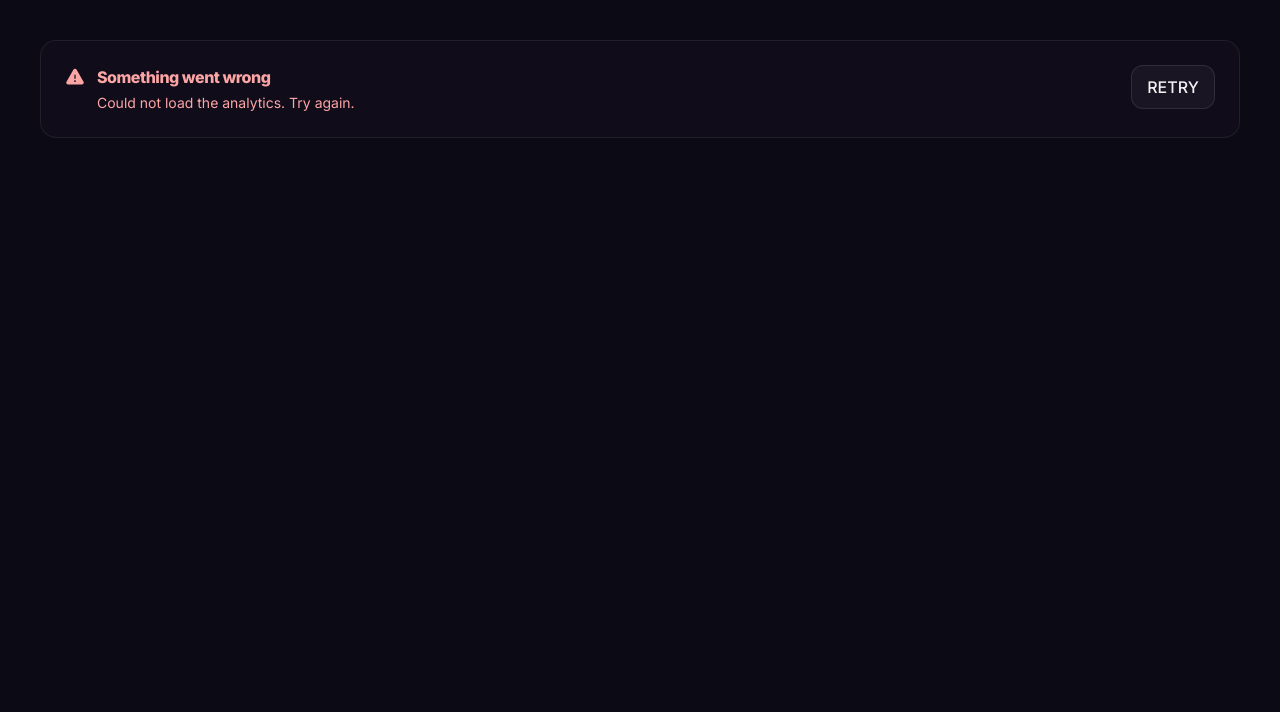
a failed request shows a retryable error instead of an endless loading message
Click the button "RETRY" at (1173, 87), box [1131, 65, 1215, 109]
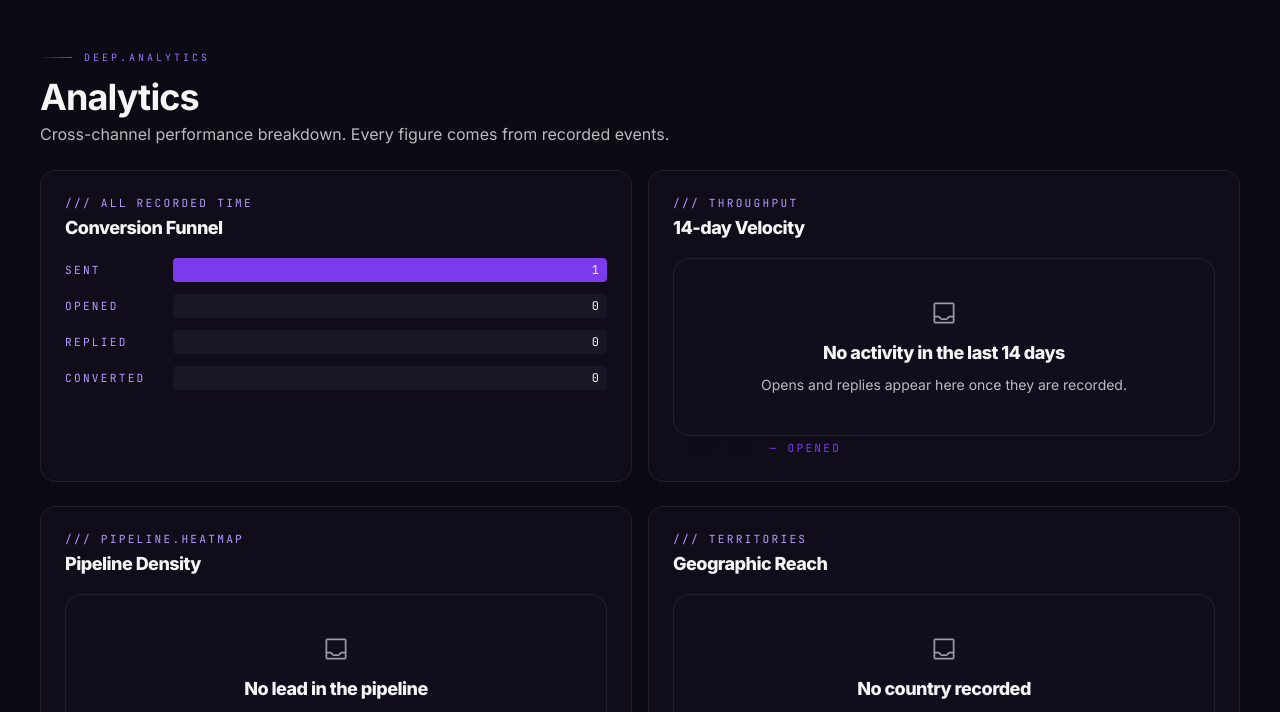
Now the text "Conversion Funnel" is shown, box [65, 217, 223, 238]
